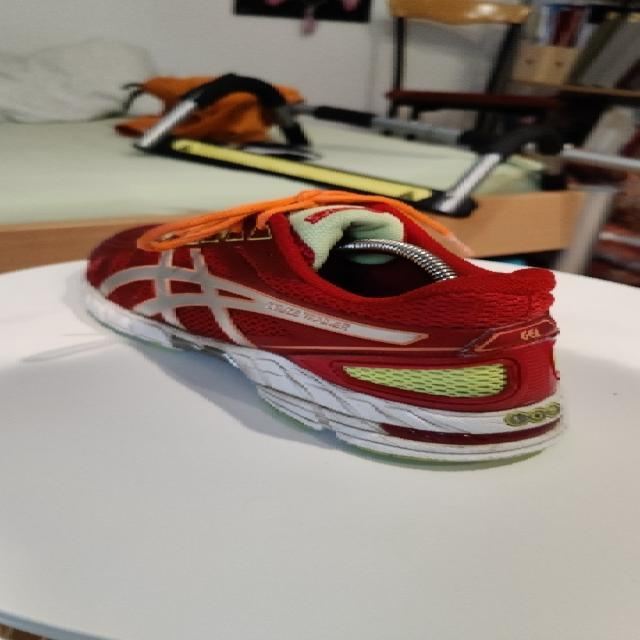shoe: (84, 190, 572, 466)
